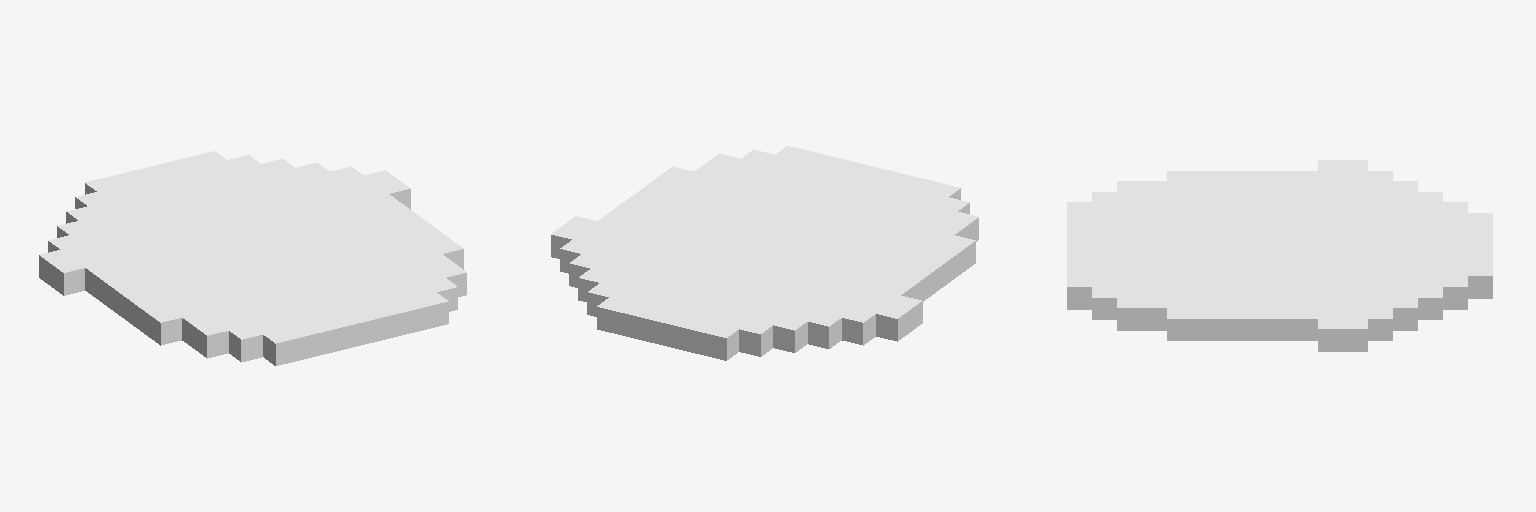
Rendered from designer.obj.
The picture shows the model from 3 angles: view 1: azimuth 30°, elevation 25°; view 2: azimuth 150°, elevation 25°; view 3: azimuth 270°, elevation 25°; orthographic projection.
Bounding box in the file's own units: 16 × 1 × 17.